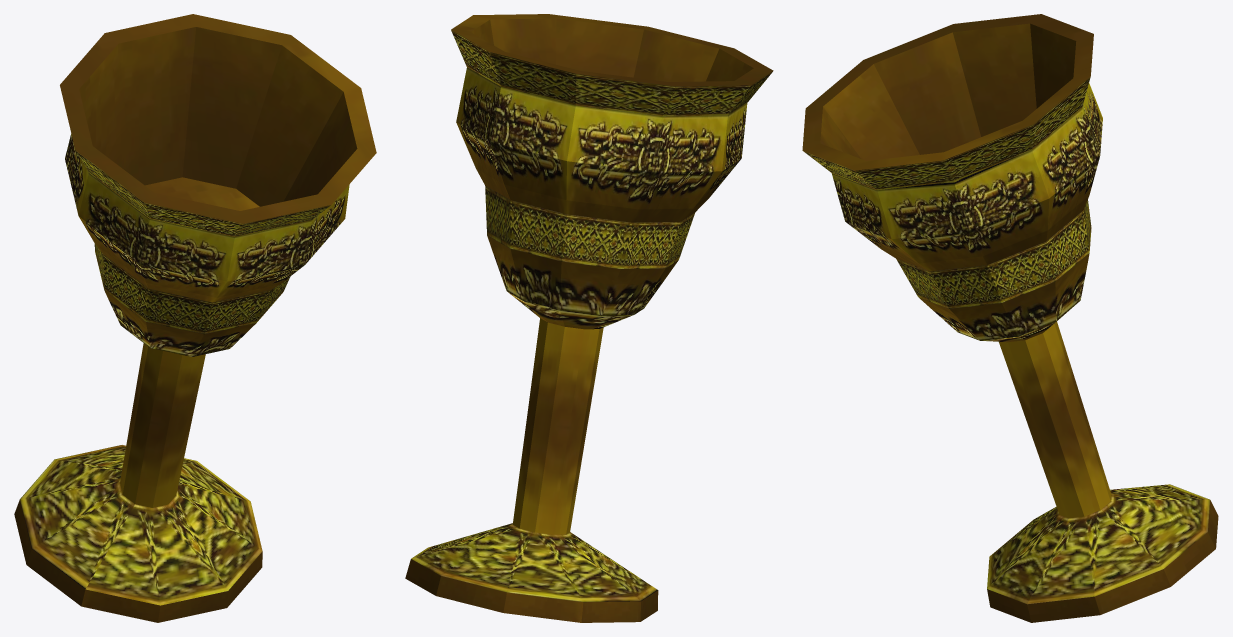
The model's file is GS_MISC_GOLDGOBLET_01.glb.
The picture shows the model from 3 angles, left to right: view 1: azimuth 30°, elevation 25°; view 2: azimuth 150°, elevation 25°; view 3: azimuth 270°, elevation 25°; orthographic projection. The views are drawn at different scales.
Visible parts, largest first — view 1: GS_MISC_GOLDGOBLET_01; view 2: GS_MISC_GOLDGOBLET_01; view 3: GS_MISC_GOLDGOBLET_01.
Part boxes in pixels (x1,y1,x2,y2): GS_MISC_GOLDGOBLET_01: (14,14,376,622); GS_MISC_GOLDGOBLET_01: (405,14,773,622); GS_MISC_GOLDGOBLET_01: (802,14,1218,622).
Bounding box in the file's own units: 0.1582 × 0.2978 × 0.2078.
Materials: 1 (1 with a texture image).
